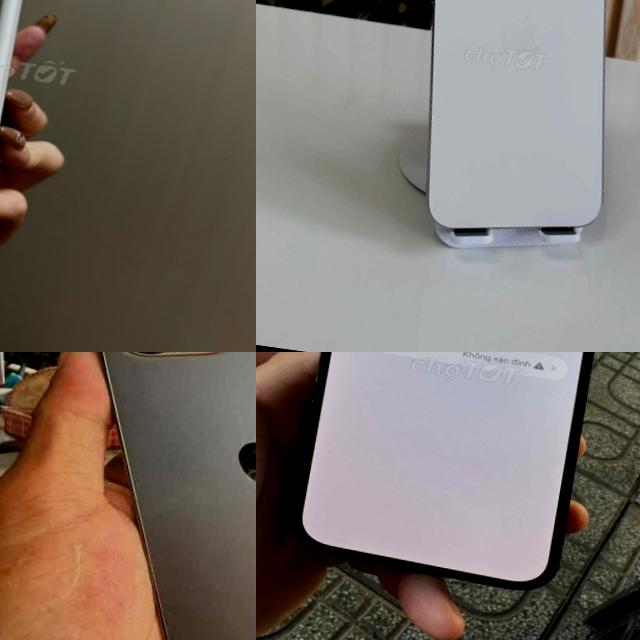gen_12_13: (20, 352, 256, 640)
gen_14: (276, 352, 631, 597)
gen_15: (376, 0, 640, 259)
gen_7_8: (0, 0, 49, 207)
